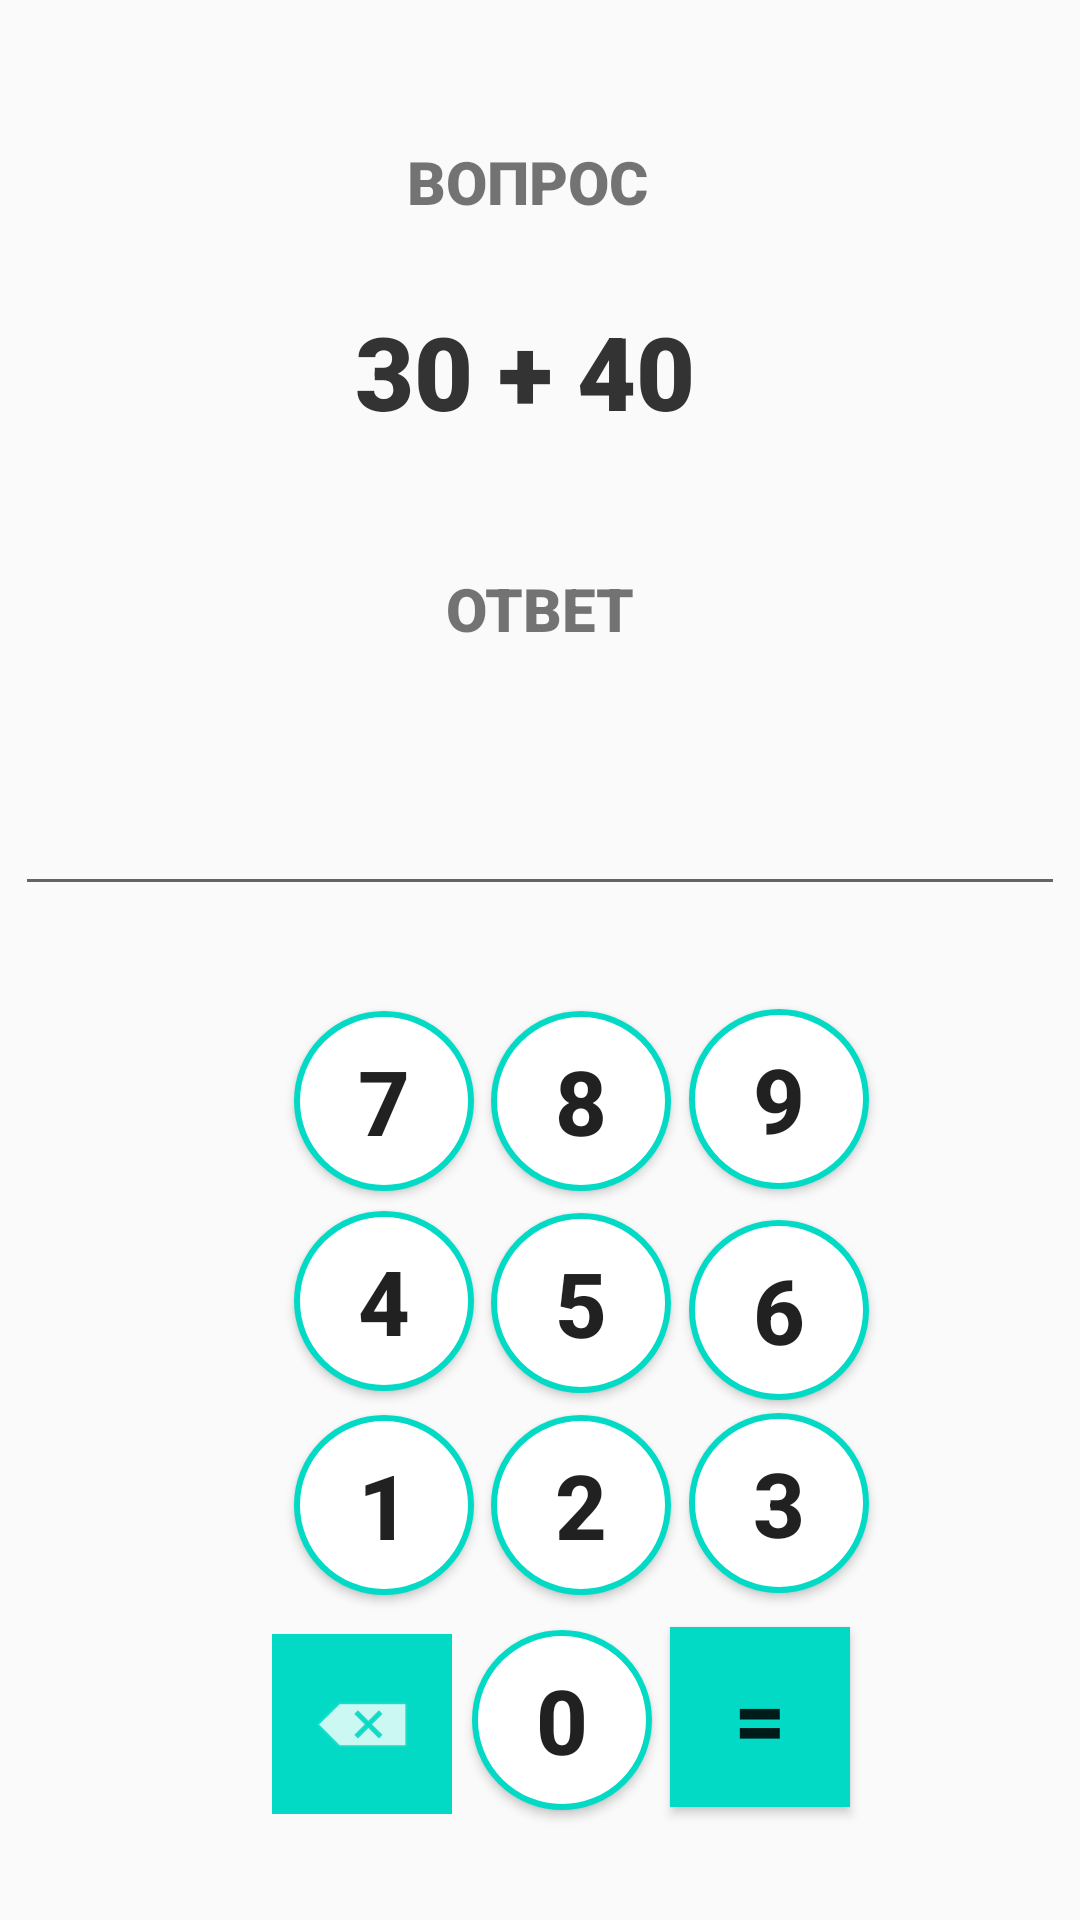

Icons on this 1080×1920 Android screen, each with the point to tap as (x=x, y=y):
delete: (x=362, y=1724)
